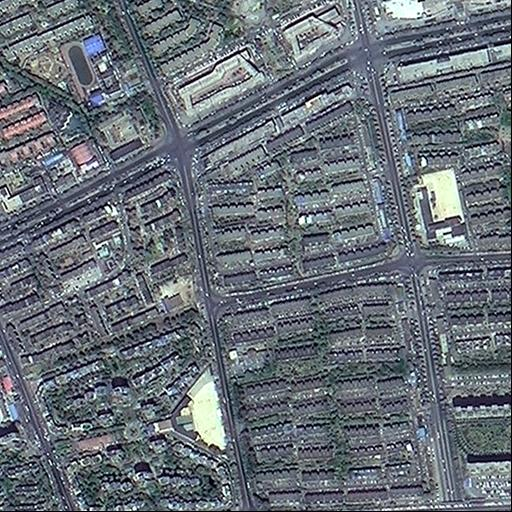school: (145, 360, 241, 461), (397, 163, 475, 257), (58, 30, 131, 112)
